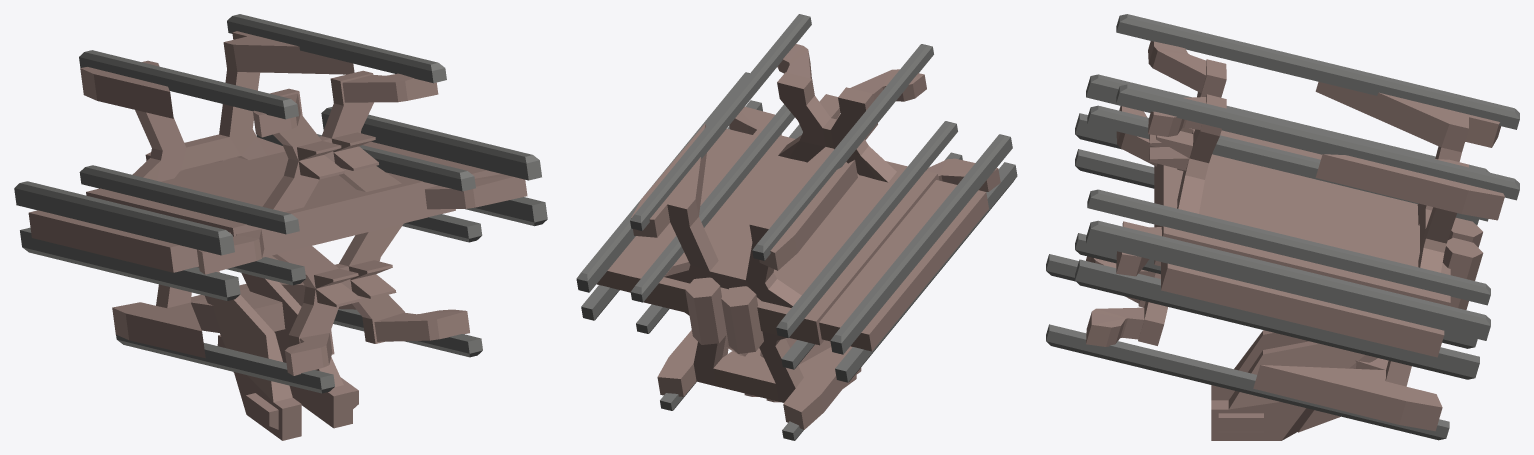
File: SM_Prop_Missle_Launcher_02_Top.glb
The picture shows the model from 3 angles, left to right: view 1: azimuth 30°, elevation 25°; view 2: azimuth 150°, elevation 25°; view 3: azimuth 270°, elevation 25°; orthographic projection. The views are drawn at different scales.
Parts seen in each view (by area): view 1: SM_Prop_Missle_Launcher_02_Top; view 2: SM_Prop_Missle_Launcher_02_Top; view 3: SM_Prop_Missle_Launcher_02_Top.
Boxes of the visible parts, x1,y1,x2,y2 form: SM_Prop_Missle_Launcher_02_Top: (14, 14, 547, 440); SM_Prop_Missle_Launcher_02_Top: (576, 14, 1017, 440); SM_Prop_Missle_Launcher_02_Top: (1046, 14, 1519, 440).
Size of the model in its own units: 2.1 by 2.26 by 2.6.
Materials: 1 (1 with a texture image).
